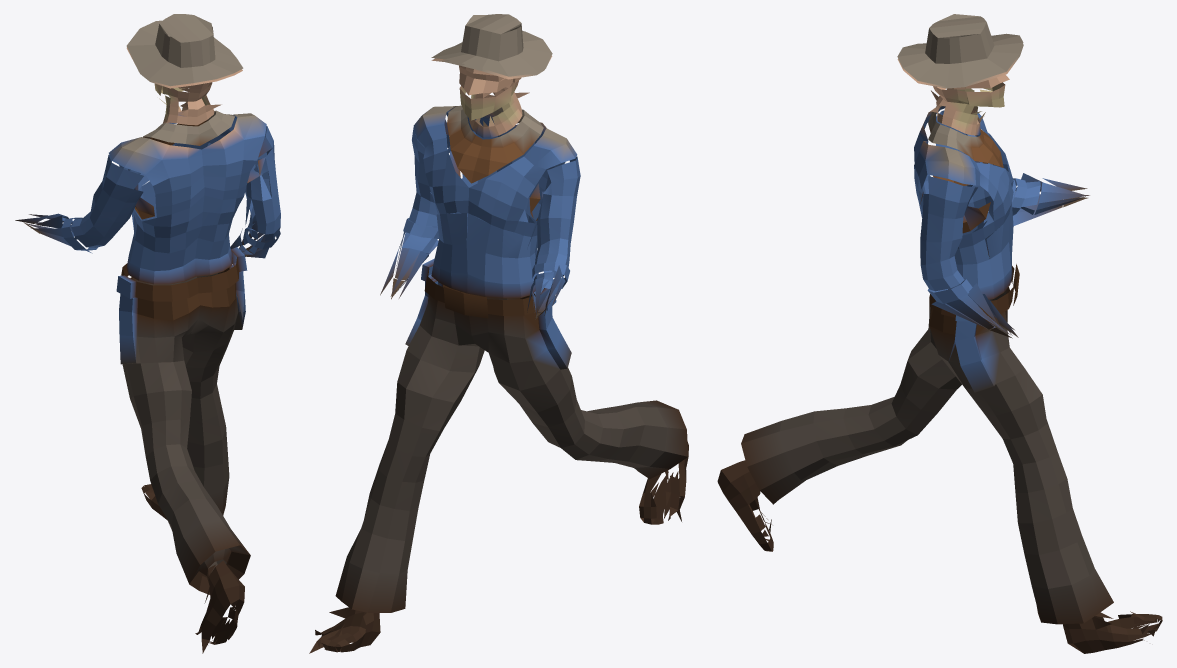
Rendered from man_2_w3.fbx.
3 renders of one model, left to right at view 1: azimuth 30°, elevation 25°; view 2: azimuth 150°, elevation 25°; view 3: azimuth 270°, elevation 25°, orthographic. The views are drawn at different scales.
Parts seen in each view (by area): view 1: cowboy; view 2: cowboy; view 3: cowboy.
Part boxes in pixels (bbox=[...]): cowboy: bbox=[15, 14, 280, 653]; cowboy: bbox=[309, 14, 688, 653]; cowboy: bbox=[717, 14, 1162, 653].
Size of the model in its own units: 0.3603 by 0.9727 by 0.6585.
